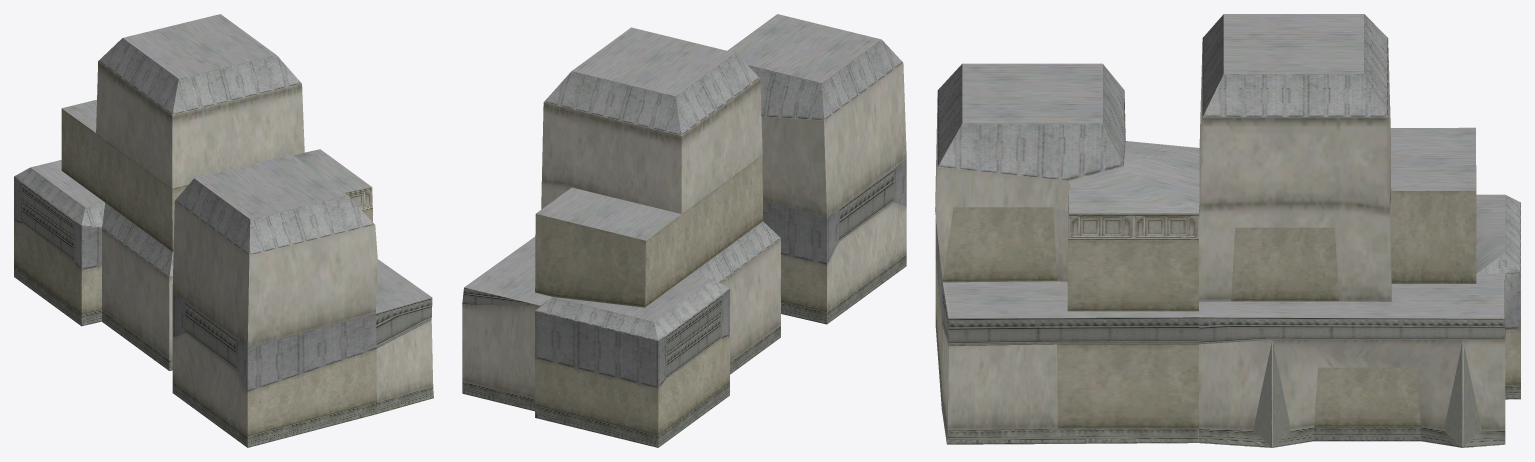
The model's file is thm_corl_imprv_historic_32x16_s02_r0_mesh_l4.fbx.
3 views of the same model, side by side, from view 1: azimuth 30°, elevation 25°; view 2: azimuth 150°, elevation 25°; view 3: azimuth 270°, elevation 25° (orthographic). The views are drawn at different scales.
Visible parts, largest first — view 1: mesh_node; view 2: mesh_node; view 3: mesh_node.
Part boxes in pixels (x1,y1,x2,y2): mesh_node: (14,14,433,447); mesh_node: (462,14,906,447); mesh_node: (935,14,1520,447).
Bounding box in the file's own units: 14.76 × 19.6 × 30.39.
